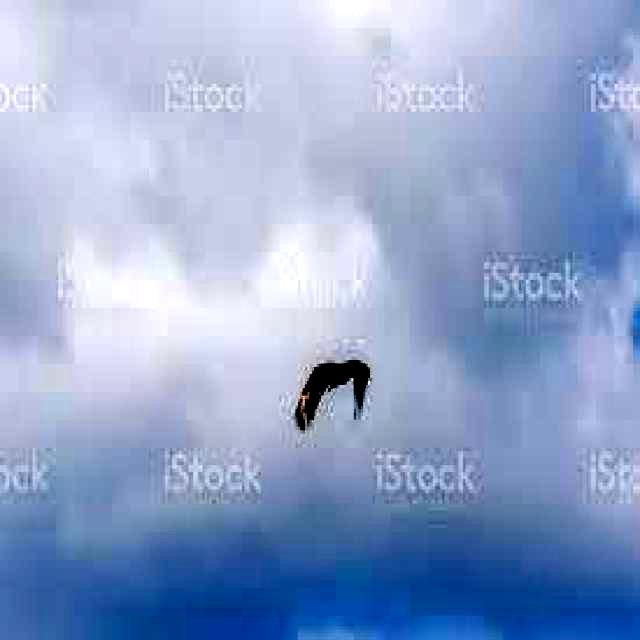bird: (292, 350, 374, 443)
